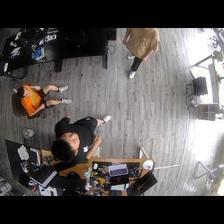normal: (51, 113, 111, 164), (123, 28, 158, 78), (16, 82, 74, 112)
